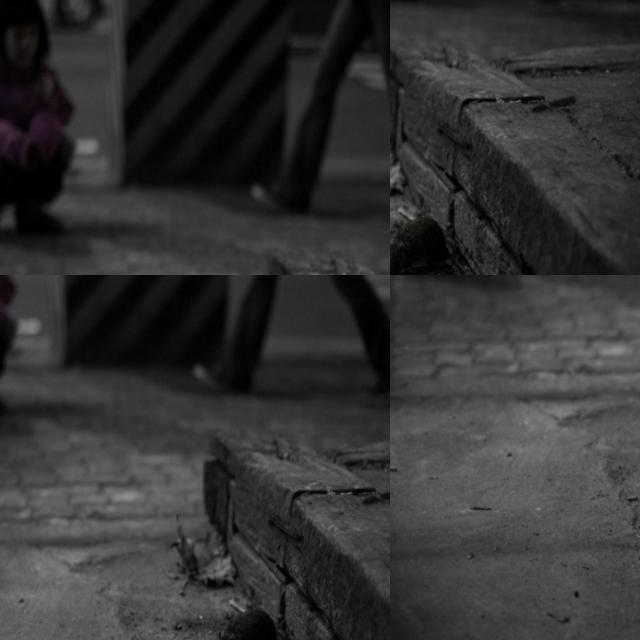rat: (0, 54, 121, 178)
